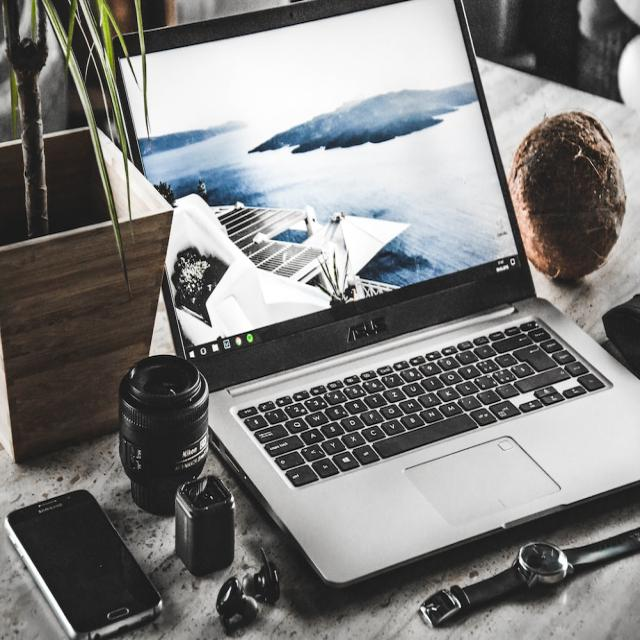keyboard: (212, 305, 640, 586)
